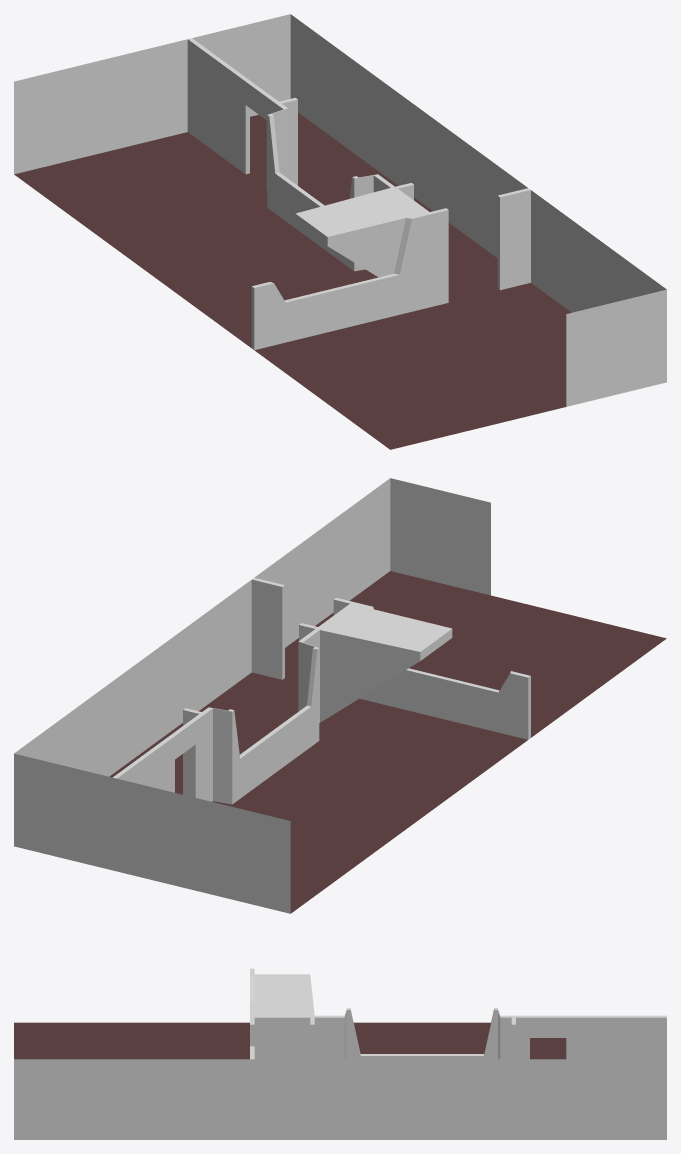
Rendered from toniplace.fbx.
The picture shows the model from 3 angles, top to bottom: view 1: azimuth 30°, elevation 25°; view 2: azimuth 150°, elevation 25°; view 3: azimuth 270°, elevation 25°; orthographic projection. The views are drawn at different scales.
Parts seen in each view (by area): view 1: Plane.001, Plane; view 2: Plane.001, Plane; view 3: Plane.001, Plane.
Boxes of the visible parts, bbox=[...] form: Plane.001: bbox=[14, 14, 666, 406]; Plane: bbox=[14, 112, 571, 449]; Plane.001: bbox=[14, 478, 530, 913]; Plane: bbox=[109, 571, 666, 913]; Plane.001: bbox=[14, 968, 666, 1139]; Plane: bbox=[14, 1022, 566, 1059].
Bounding box in the file's own units: 467 × 150 × 1100.
